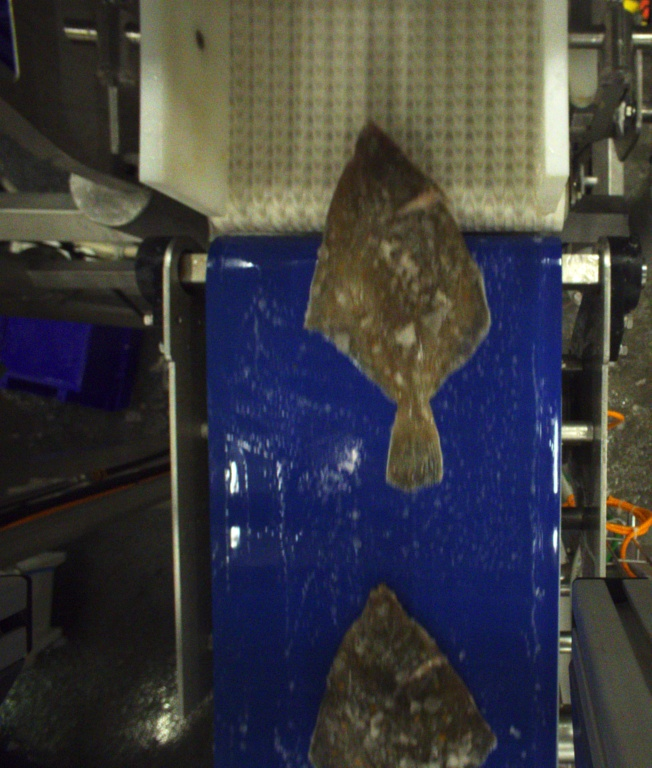PLE: (303, 118, 495, 493)
